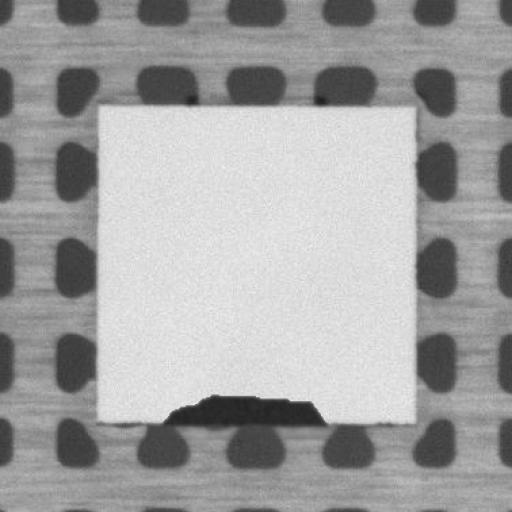DIE_BROKEN: (157, 390, 327, 426)
